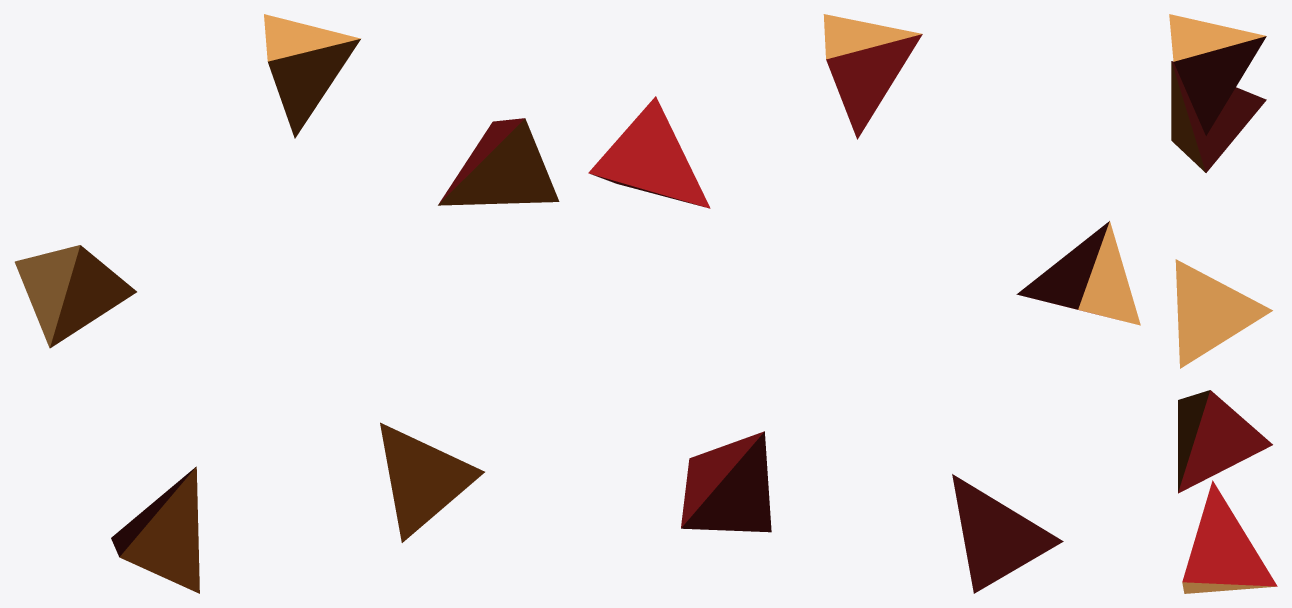
3 renders of one model, left to right at view 1: azimuth 30°, elevation 25°; view 2: azimuth 150°, elevation 25°; view 3: azimuth 270°, elevation 25°, orthographic. The views are drawn at different scales.
Parts seen in each view (by area): view 1: ss3d_64_exit_portal; view 2: ss3d_64_exit_portal; view 3: ss3d_64_exit_portal.
Part boxes in pixels (<box>): ss3d_64_exit_portal: <box>14,14,559,593</box>; ss3d_64_exit_portal: <box>588,14,1140,593</box>; ss3d_64_exit_portal: <box>1169,14,1277,593</box>.
Size of the model in its own units: 2.09 by 2.03 by 0.3906.
Materials: 1 (1 with a texture image).
